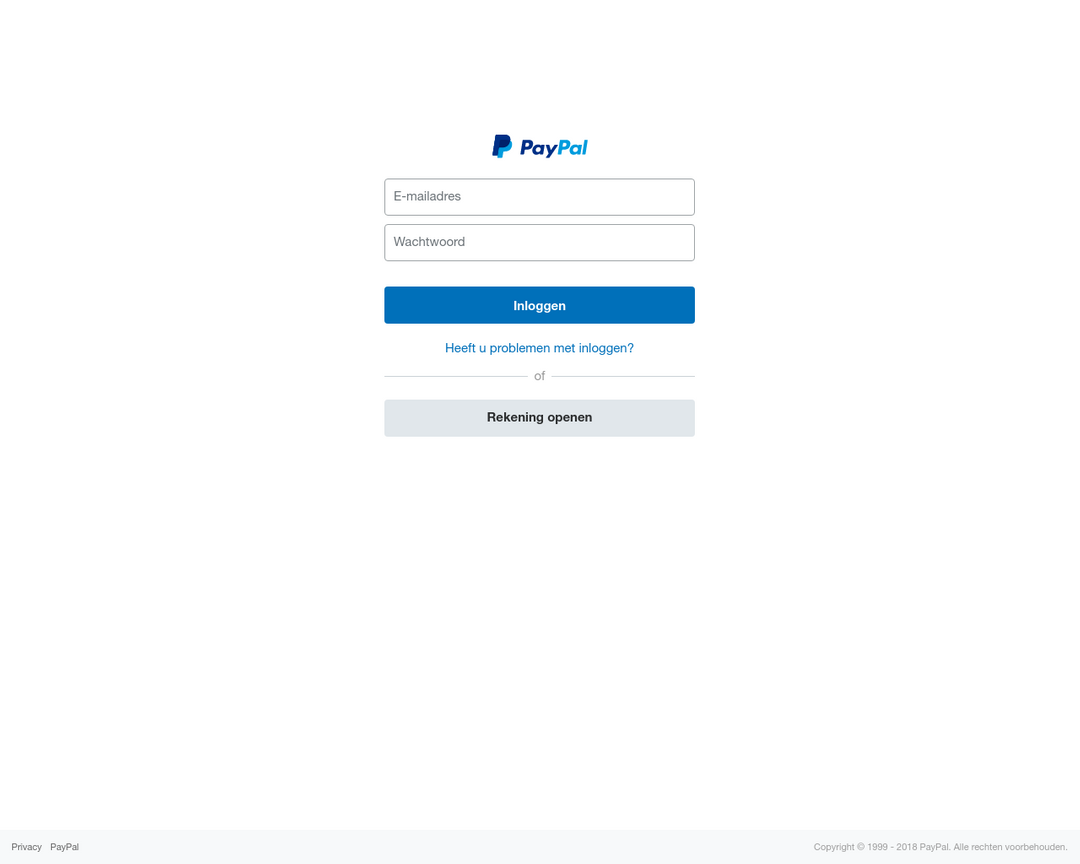Paypal: (67, 12, 184, 50)
